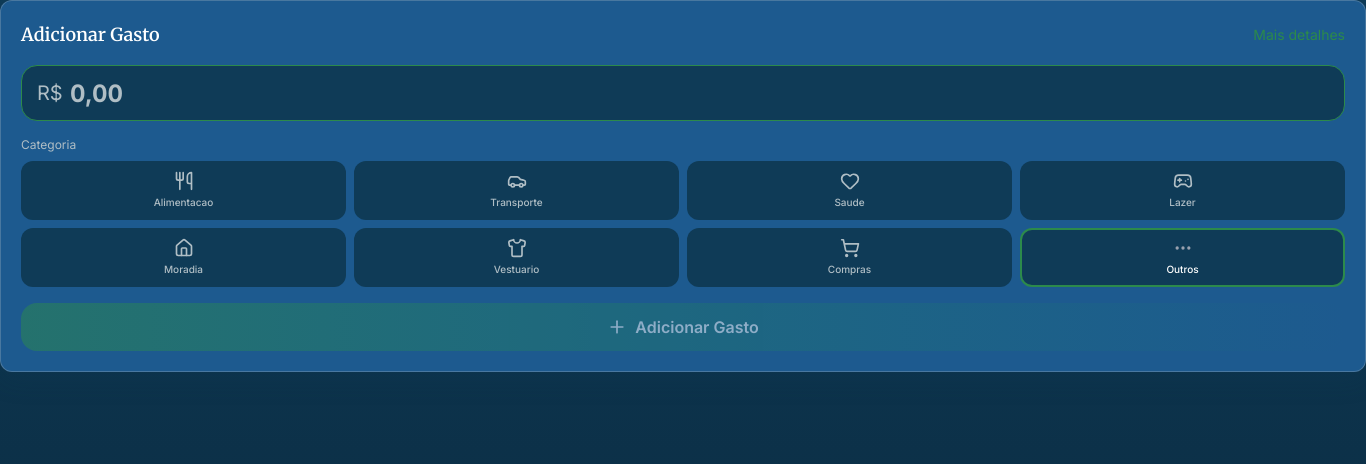
Scenario: logging an expense takes one number › should refuse a second decimal separator instead of saving a wrong figure
Type "37,5037,50" into the field with placeholder "0,00" at [683, 93], box 21,65 -> 1345,121
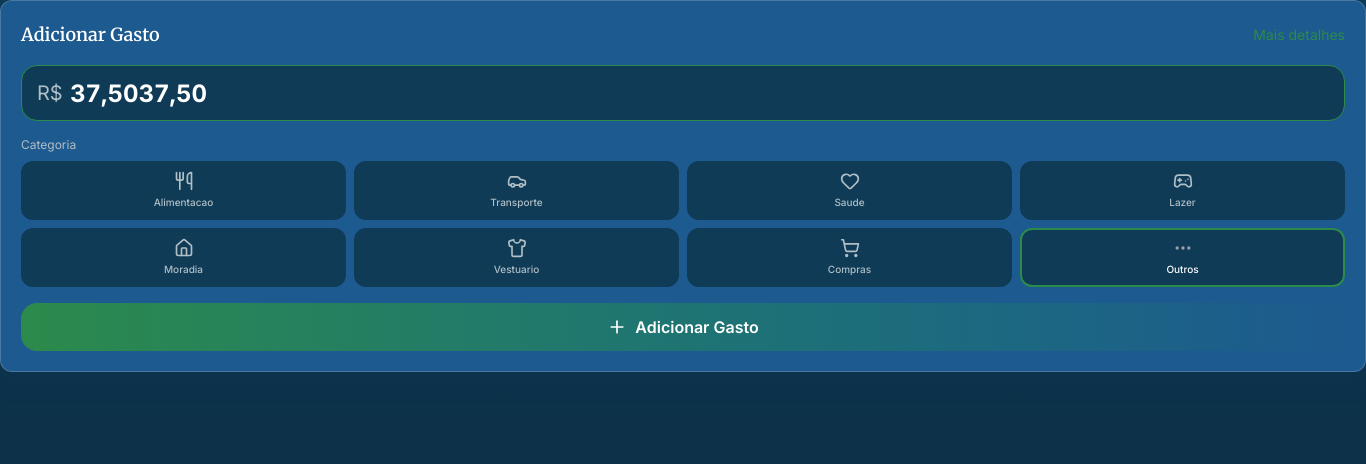
Click the button "Adicionar Gasto" at [683, 327], box 21,303 -> 1345,351
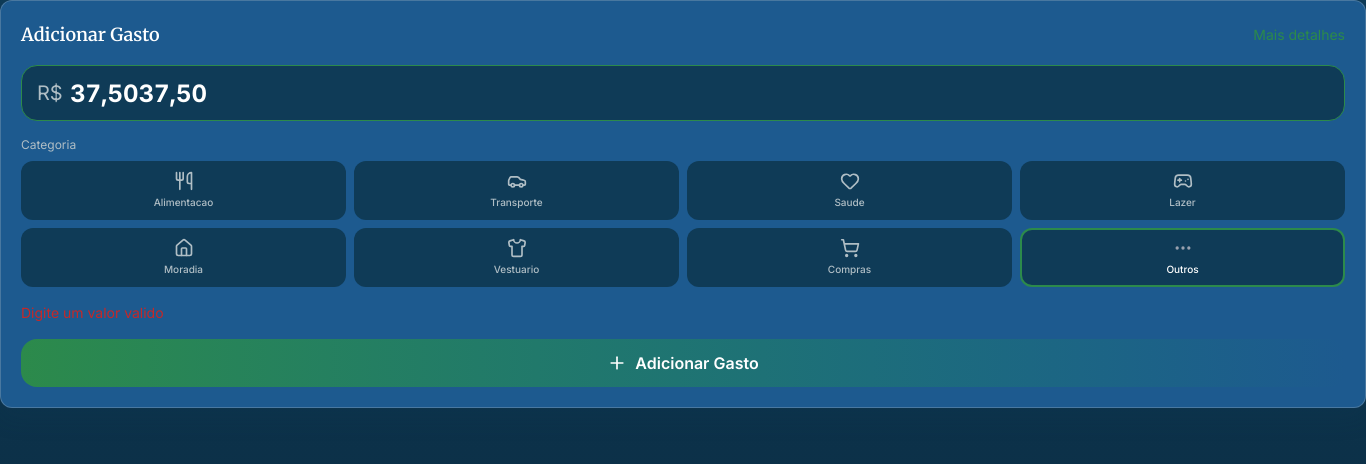
Check: the text "Digite um valor valido" is shown, box 21,304 -> 164,321
